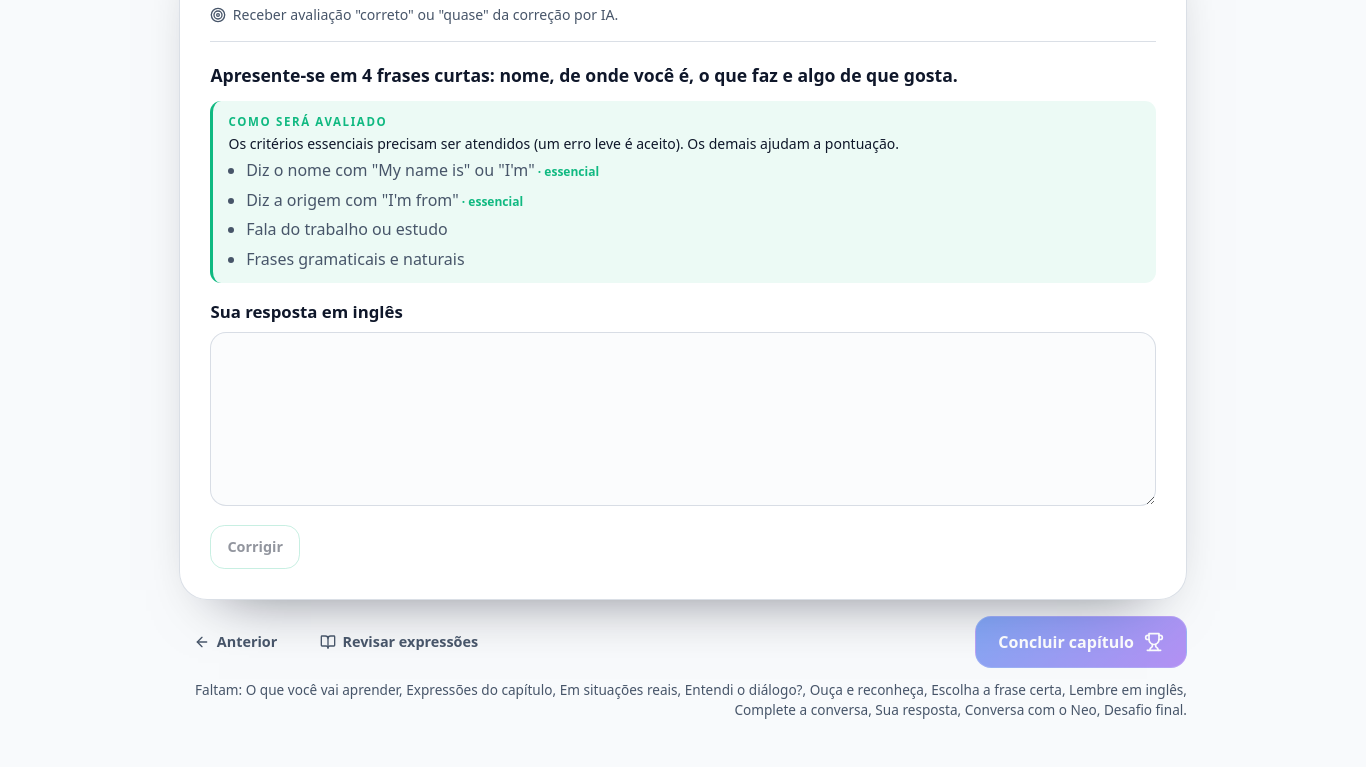
it: Journey 2.0 activities › shows an error and approves nothing when the AI check fails
This screenshot has width=1366, height=767.
(page scrolled)
Step 1. Type "My name is Ana." into the text box labelled "Sua resposta em inglês" → (683, 419), box [210, 332, 1156, 506]
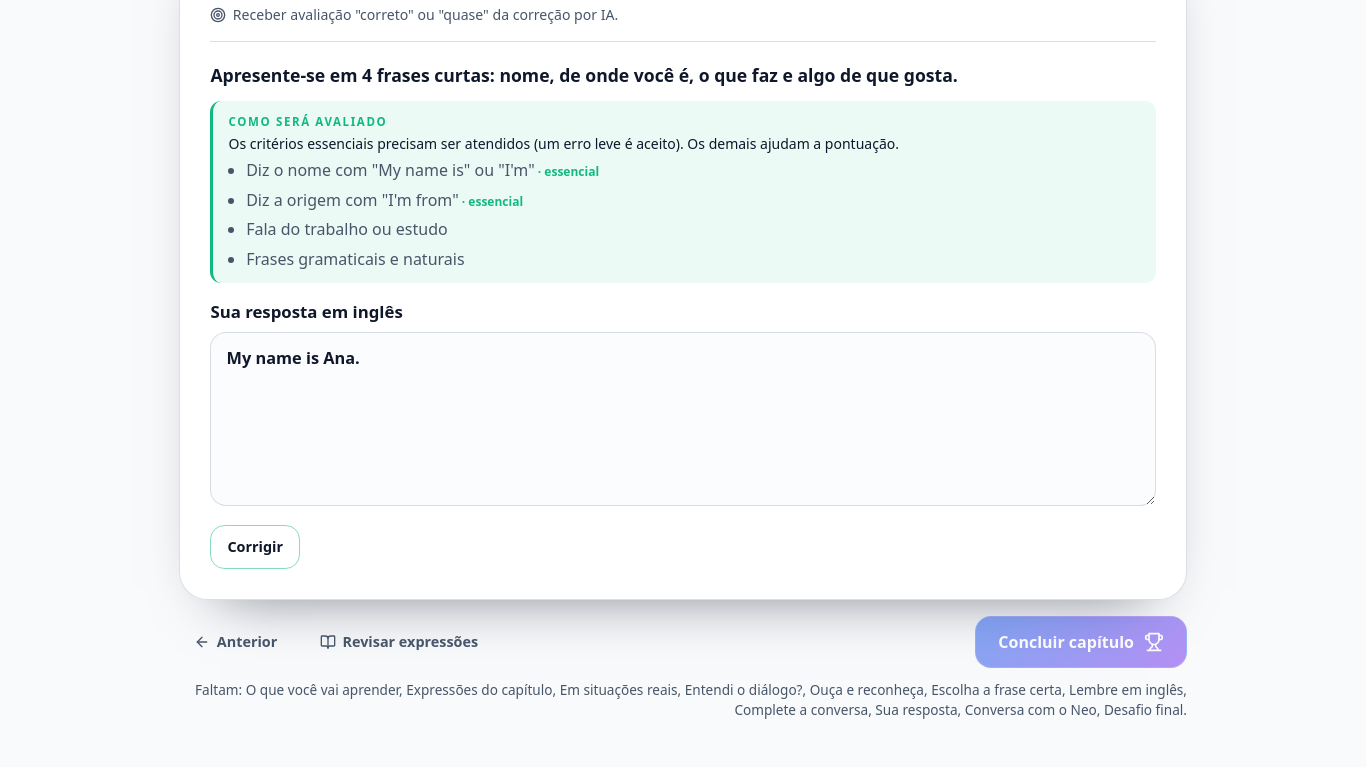
Step 2. Click the button "Corrigir" → (255, 547), box [210, 525, 300, 569]
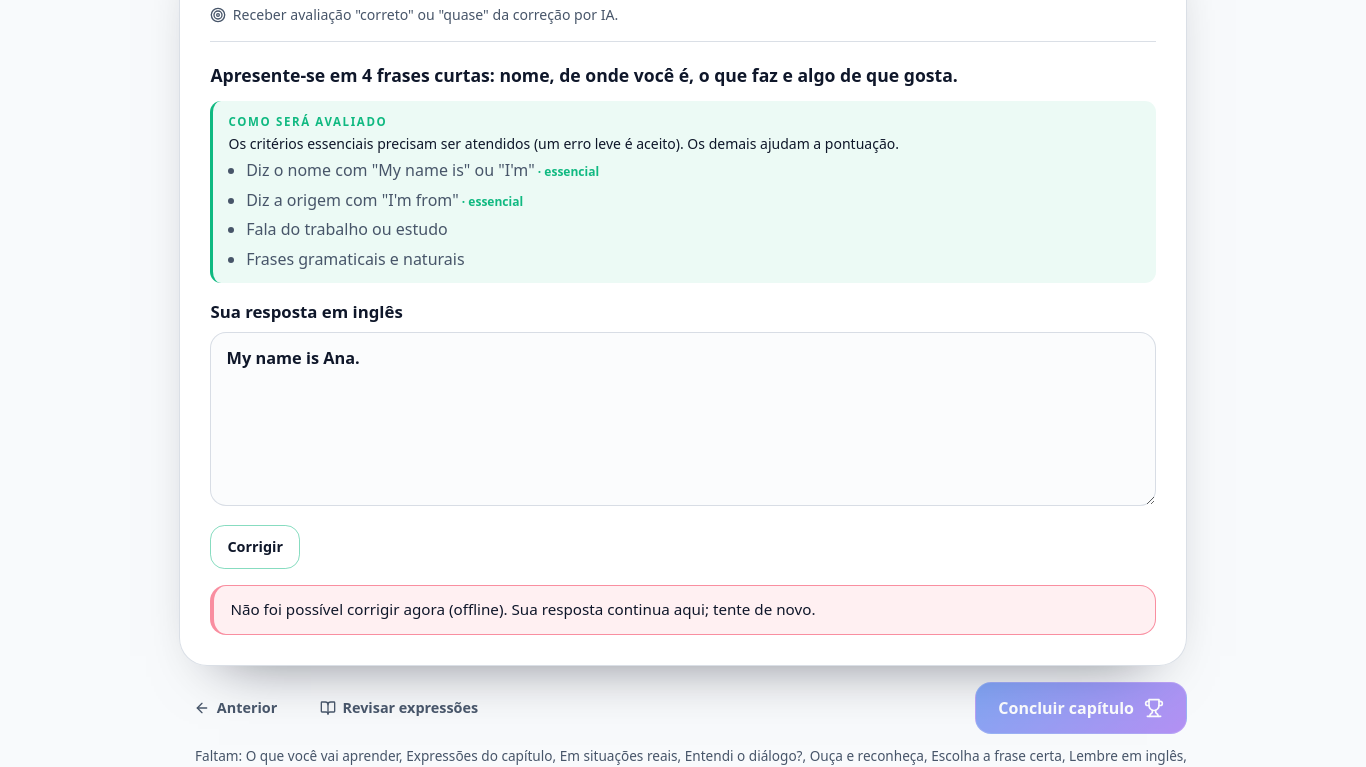
Check: the message shows "Não foi possível corrigir agora", box [230, 599, 816, 619]
